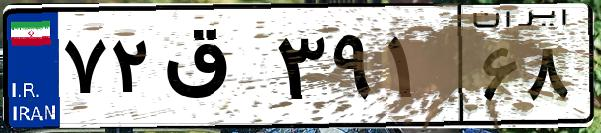1: (385, 28, 445, 110)
2: (110, 28, 158, 98)
3: (270, 28, 330, 110)
6: (475, 38, 525, 113)
7: (57, 26, 110, 100)
8: (525, 38, 570, 115)
9: (330, 28, 385, 110)
ق: (158, 20, 270, 120)
